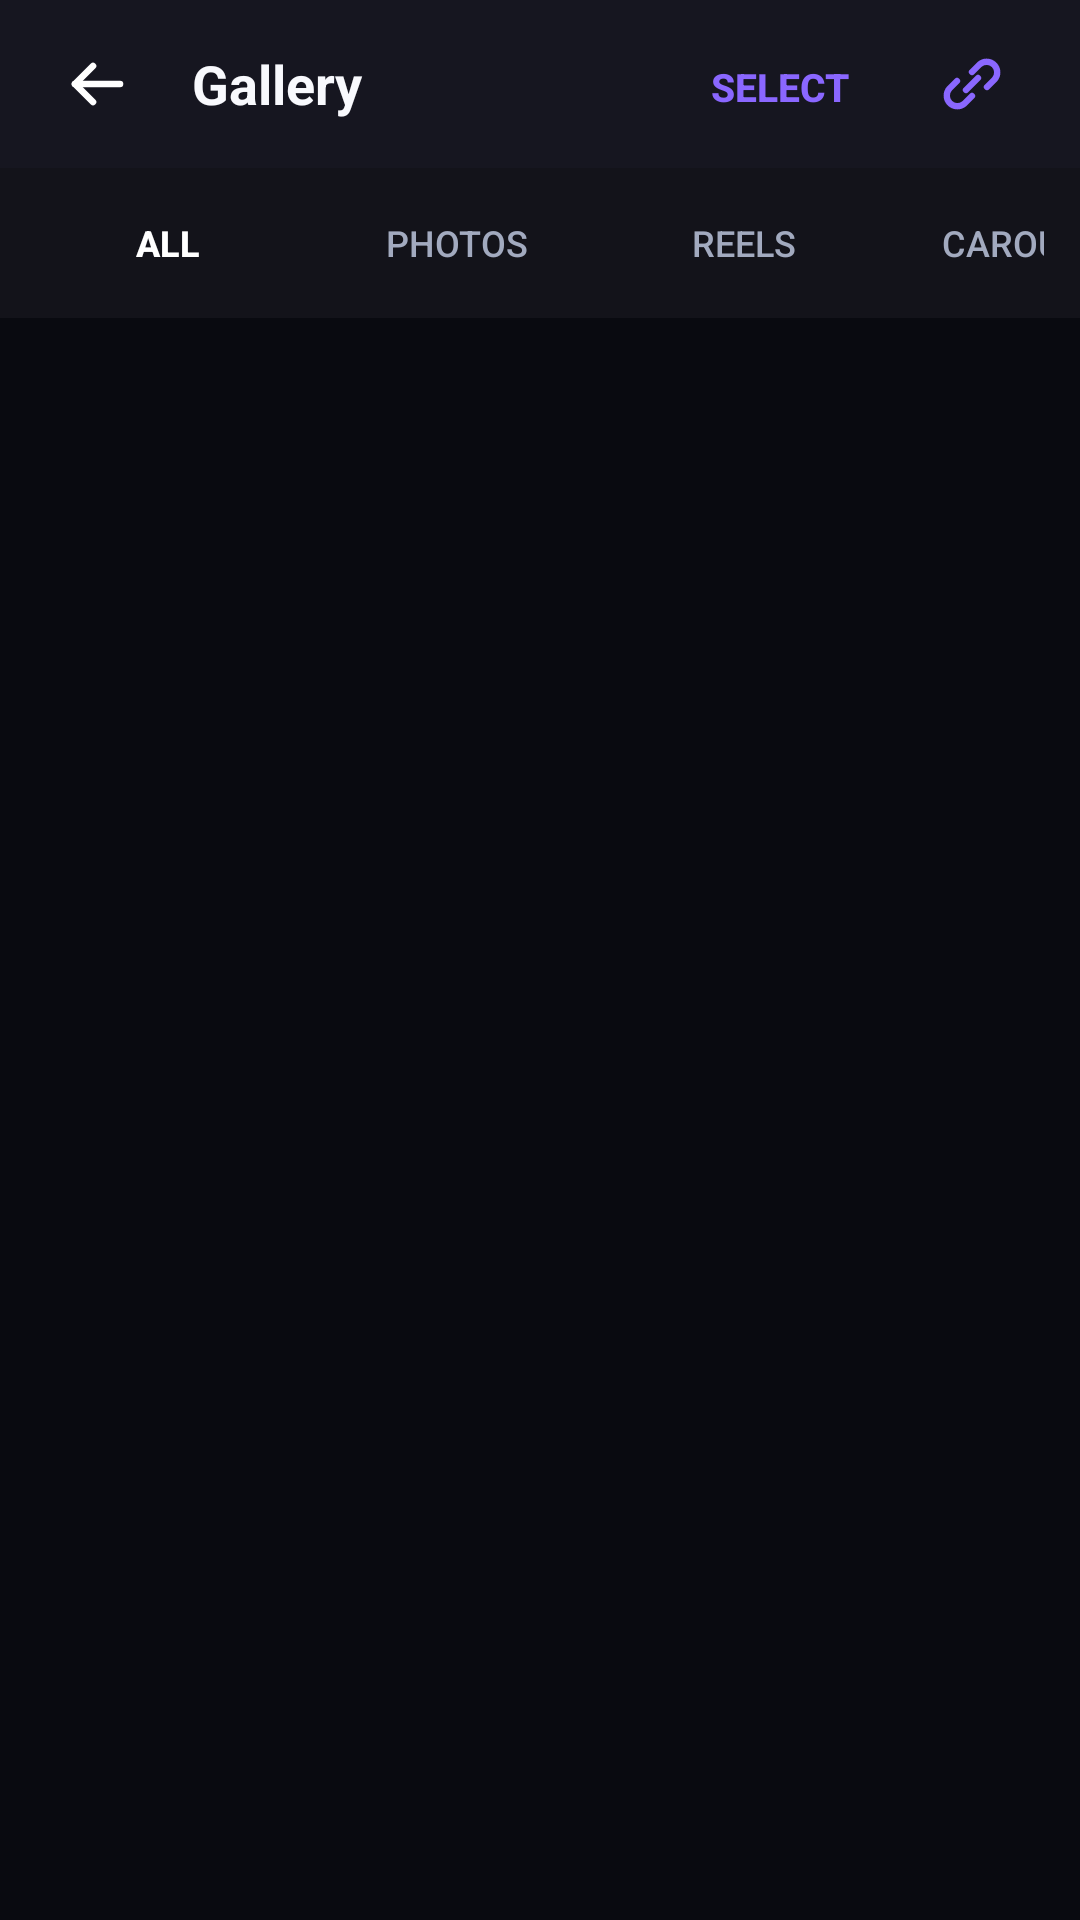

Screen size 1080x1920. Icon name, then its center in pixels as [x,y]:
Add Link: [972,84]
Back: [97,84]
